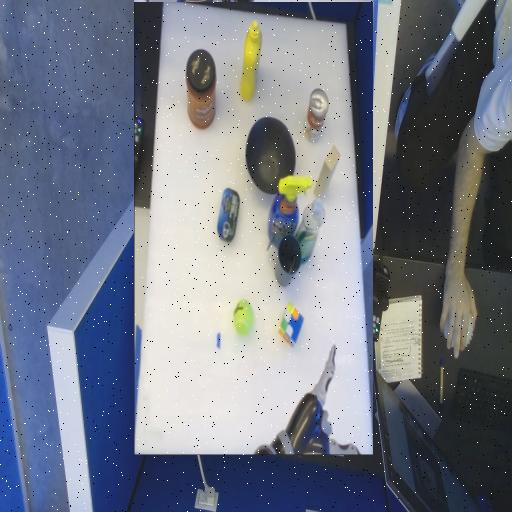bowl: (210, 275, 261, 326)
cleanser: (182, 193, 213, 258)
coffee_can: (291, 352, 320, 382)
jaco: (146, 1, 221, 110)
meat_can: (267, 229, 289, 251)
mug: (207, 171, 232, 221)
mustard_bottle: (246, 356, 266, 435)
rubik: (204, 111, 227, 153)
soup_can: (179, 315, 202, 367)
tennis_ball: (254, 121, 274, 155)
windex: (195, 214, 239, 280)
wooden_block: (167, 260, 192, 310)
workspace: (134, 2, 373, 454)
